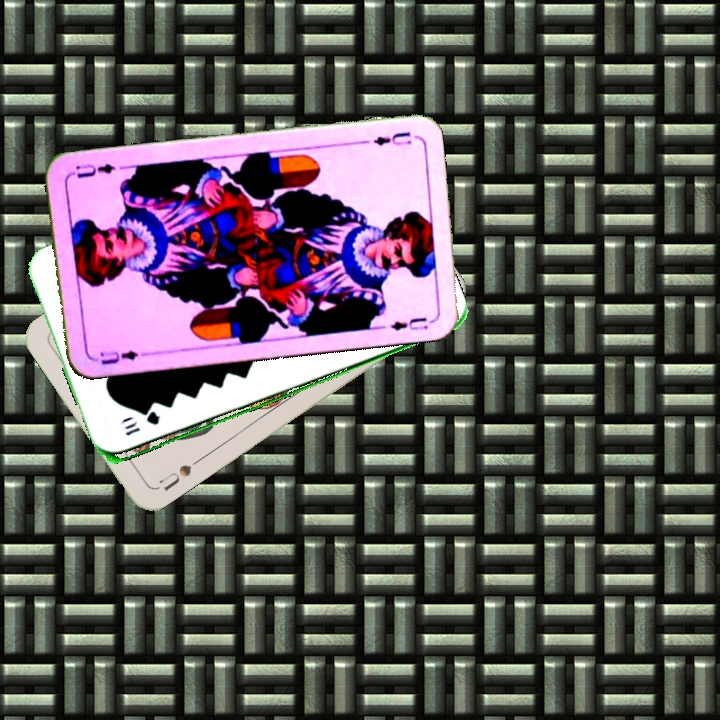EU: (89, 346, 149, 368), (369, 127, 414, 148)
G10: (121, 410, 163, 439)
SU: (155, 454, 204, 494)
